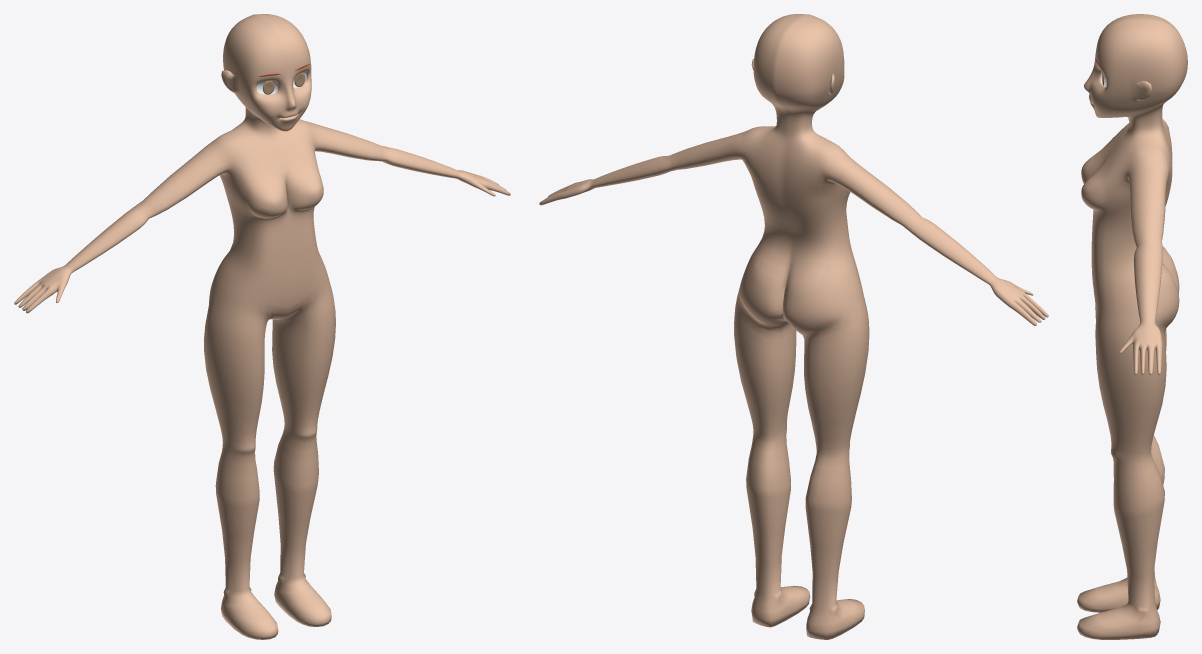
3 views of the same model, side by side, from view 1: azimuth 30°, elevation 25°; view 2: azimuth 150°, elevation 25°; view 3: azimuth 270°, elevation 25° (orthographic). The views are drawn at different scales.
Visible parts, largest first — view 1: character; view 2: character; view 3: character.
Part boxes in pixels (<box>): character: <box>14,14,510,639</box>; character: <box>539,14,1048,639</box>; character: <box>1077,14,1187,639</box>.
Bounding box in the file's own units: 1881 × 2190 × 367.
